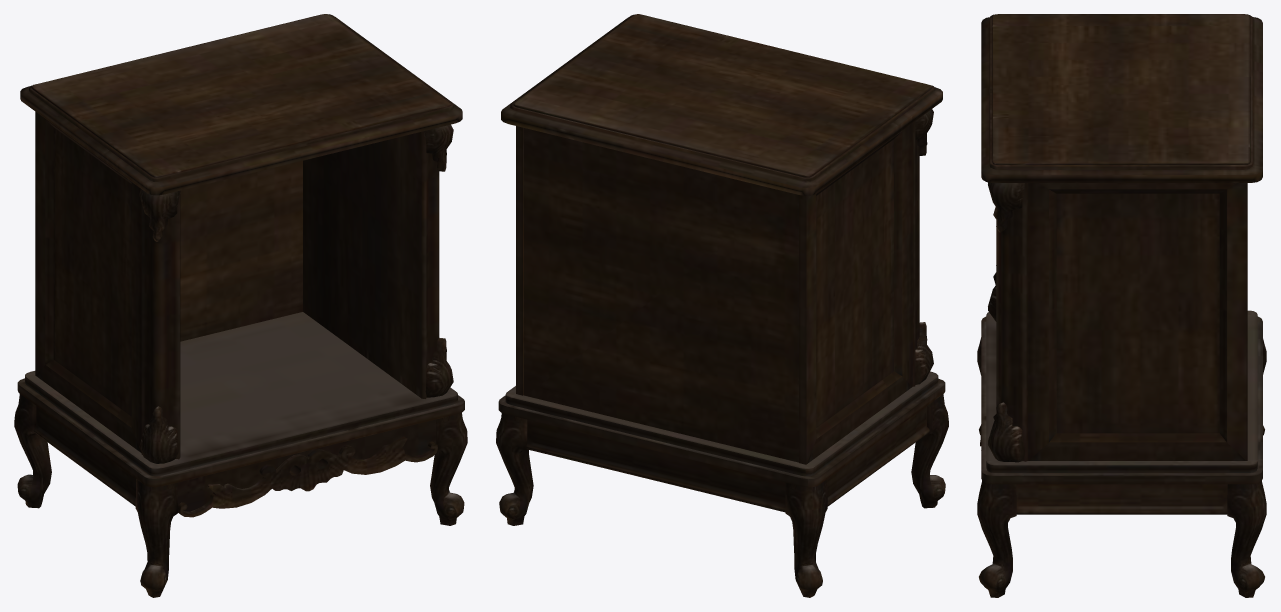
Rendered from ph-nightstand.glb.
3 views of the same model, side by side, from view 1: azimuth 30°, elevation 25°; view 2: azimuth 150°, elevation 25°; view 3: azimuth 270°, elevation 25° (orthographic). The views are drawn at different scales.
Visible parts, largest first — view 1: ClassicNightstand_01; view 2: ClassicNightstand_01; view 3: ClassicNightstand_01.
Boxes of the visible parts, left/top/right/bottom form: ClassicNightstand_01: left=14, top=14, right=467, bottom=597; ClassicNightstand_01: left=496, top=14, right=948, bottom=597; ClassicNightstand_01: left=977, top=14, right=1266, bottom=597.
Bounding box in the file's own units: 0.5678 × 0.7 × 0.4242.
Materials: 1 (1 with a texture image).
